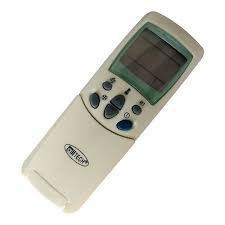remote control: (14, 2, 207, 222)
